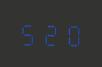five: (18, 19, 38, 46)
two: (40, 19, 60, 47)
zero: (61, 20, 81, 47)
